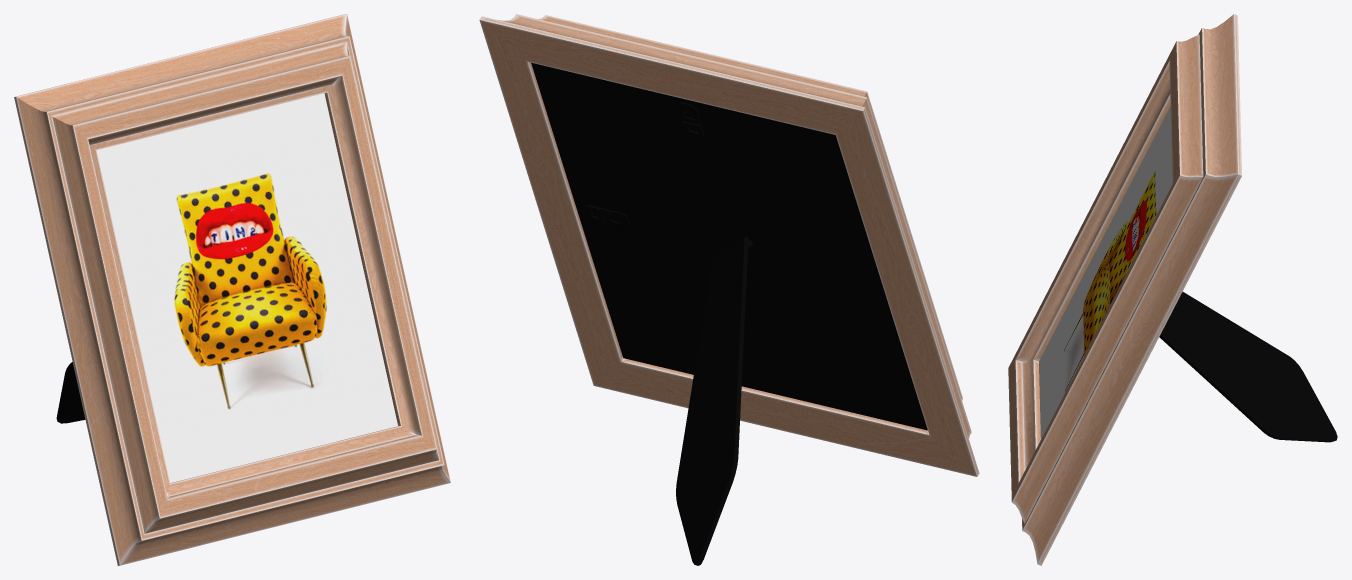
Rendered from photoframe-v1.glb.
The picture shows the model from 3 angles, left to right: view 1: azimuth 30°, elevation 25°; view 2: azimuth 150°, elevation 25°; view 3: azimuth 270°, elevation 25°; orthographic projection. The views are drawn at different scales.
Parts seen in each view (by area): view 1: PictureFrame_Material_0; view 2: PictureFrame_Material_0; view 3: PictureFrame_Material_0.
Boxes of the visible parts, x1=… form: PictureFrame_Material_0: x1=14, y1=14, x2=450, y2=565; PictureFrame_Material_0: x1=479, y1=14, x2=979, y2=565; PictureFrame_Material_0: x1=1008, y1=14, x2=1337, y2=565.
Bounding box in the file's own units: 7.31 × 8.26 × 6.31.
Materials: 1 (1 with a texture image).
